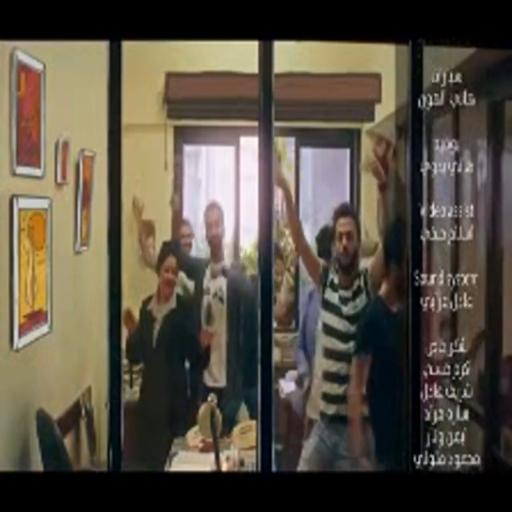nao-violencia: (122, 183, 258, 471)
